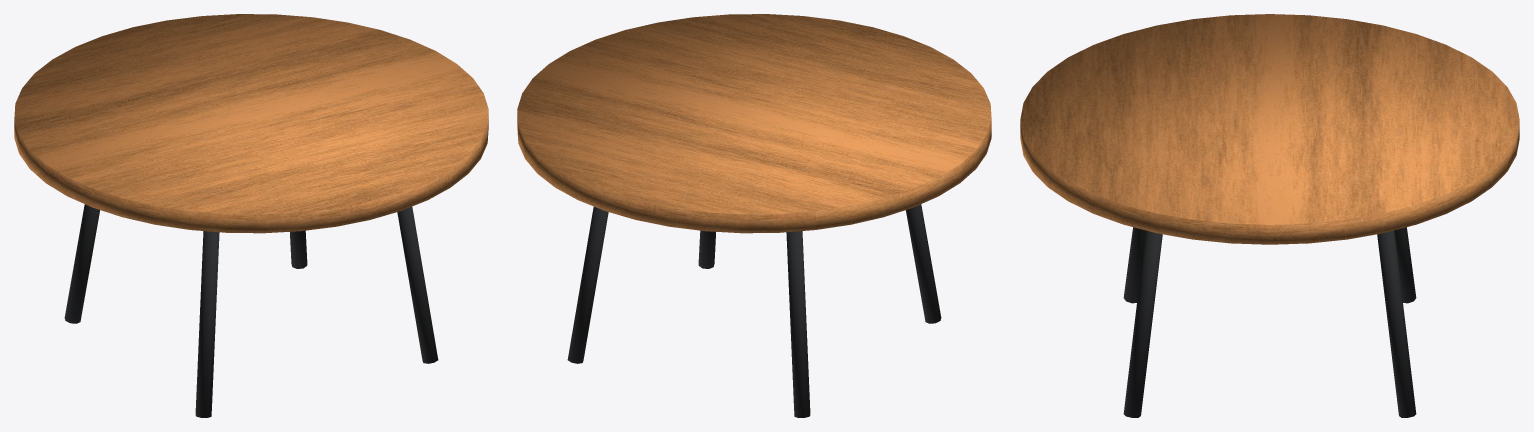
The model's file is lounge.coffee-table.glb.
3 renders of one model, left to right at view 1: azimuth 30°, elevation 25°; view 2: azimuth 150°, elevation 25°; view 3: azimuth 270°, elevation 25°, orthographic. The views are drawn at different scales.
Parts seen in each view (by area): view 1: lounge.coffee-table.001; view 2: lounge.coffee-table.001; view 3: lounge.coffee-table.001.
Boxes of the visible parts, x1,y1,x2,y2 form: lounge.coffee-table.001: (14, 14, 488, 417); lounge.coffee-table.001: (517, 14, 991, 417); lounge.coffee-table.001: (1020, 14, 1519, 417).
Size of the model in its own units: 0.8 by 0.4222 by 0.8.
Materials: 2 (1 with a texture image).
